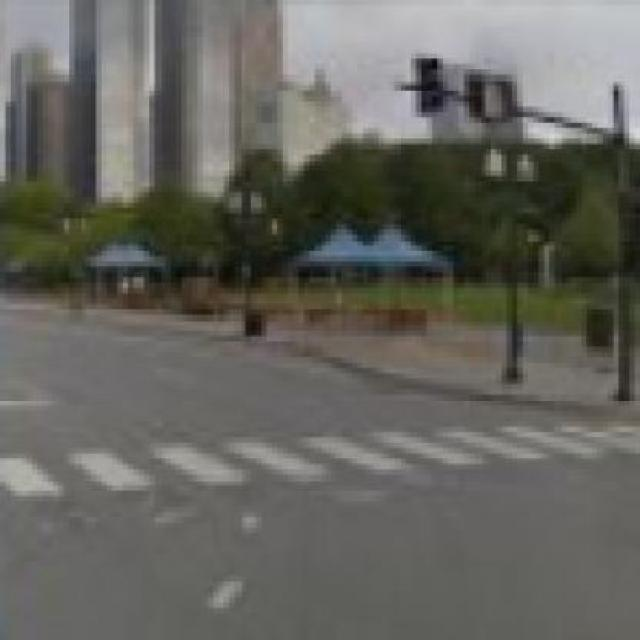crosswalk: (3, 419, 638, 499)
